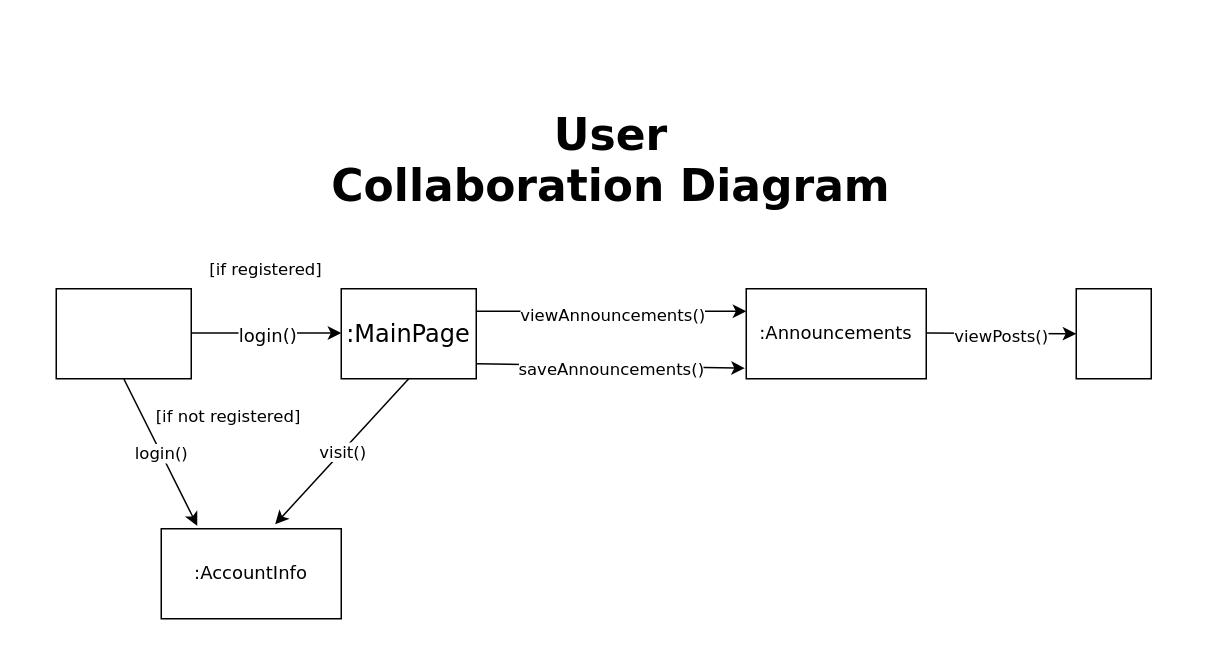
Image size: 1221x645. Some labels were removed from this diagram. The shapes that lost their labels are listed below. From the top down, each one's centre as x and y in pixels, then its label:
(123,333): :USER
(1113,333): :Posts
